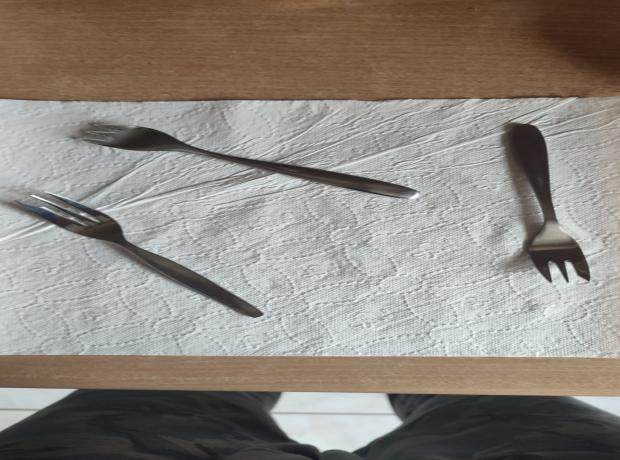metal: (14, 191, 263, 317), (72, 122, 421, 200), (504, 123, 593, 284)
